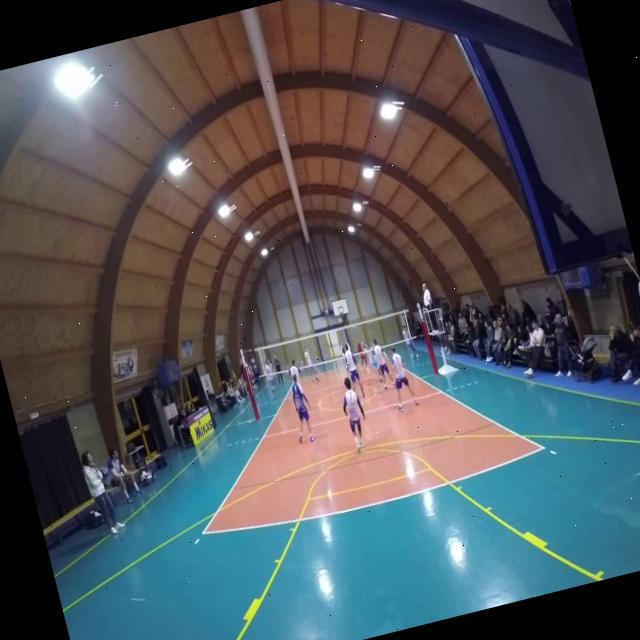Volleyball: (337, 316, 343, 324)
